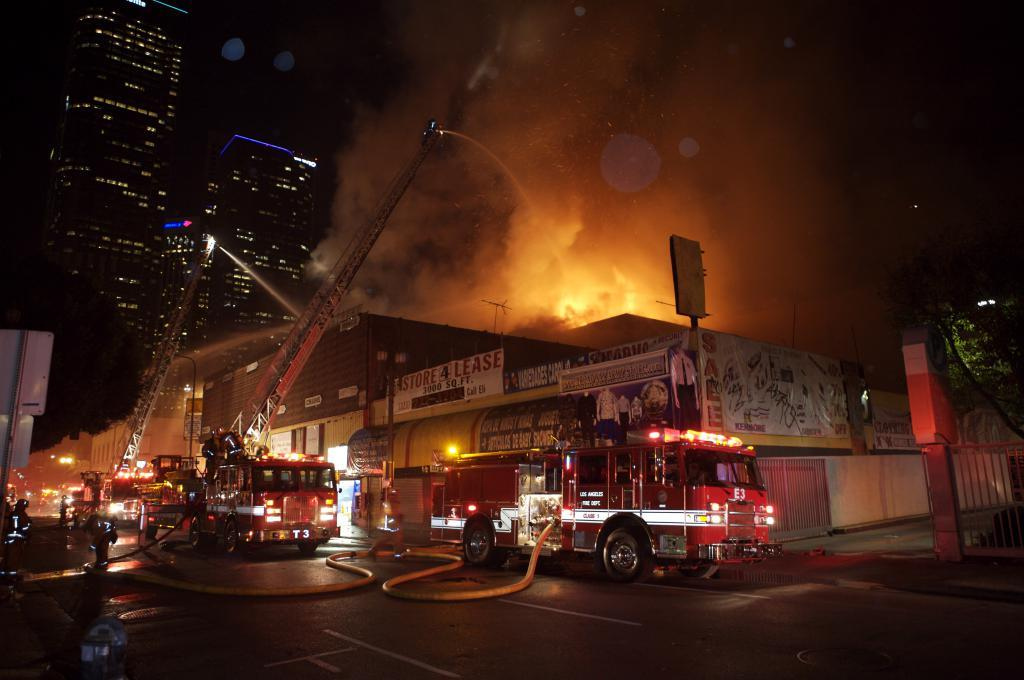Fire: (503, 248, 708, 335)
